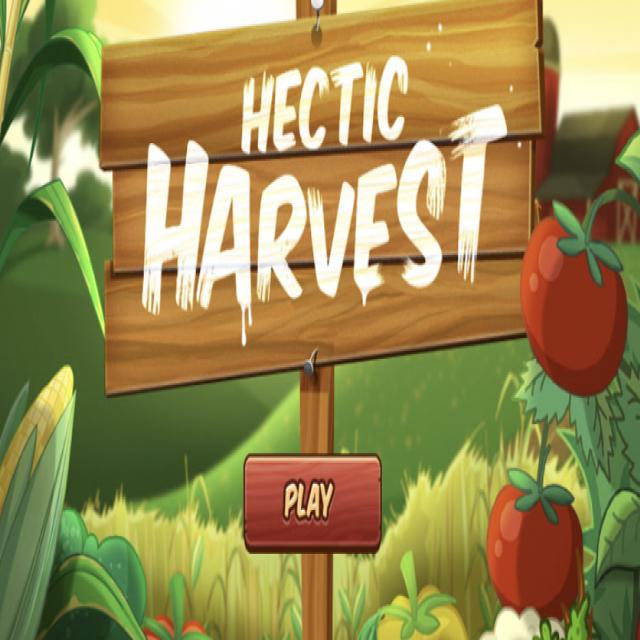Start-button: (236, 458, 388, 554)
